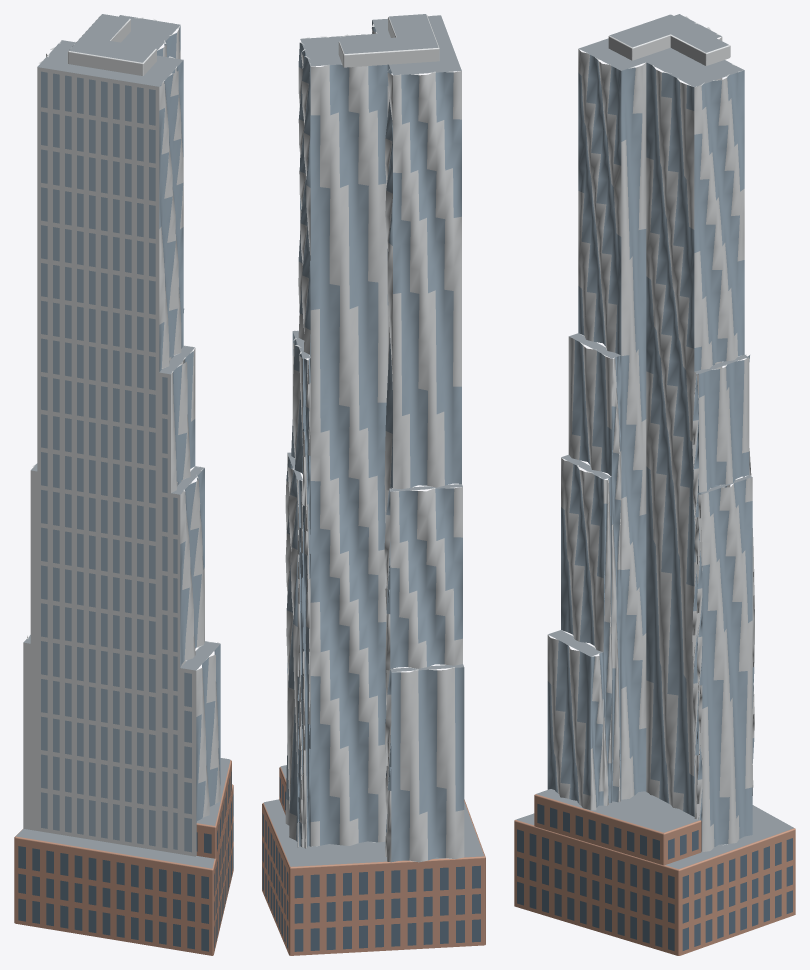
The model's file is detail.glb.
3 views of the same model, side by side, from view 1: azimuth 30°, elevation 25°; view 2: azimuth 150°, elevation 25°; view 3: azimuth 270°, elevation 25° (orthographic). The views are drawn at different scales.
Visible parts, largest first — view 1: 8-spruce-street; view 2: 8-spruce-street; view 3: 8-spruce-street.
Part boxes in pixels (bbox=[...]): 8-spruce-street: bbox=[14, 14, 233, 955]; 8-spruce-street: bbox=[262, 14, 485, 955]; 8-spruce-street: bbox=[514, 14, 795, 955].
Bounding box in the file's own units: 71.17 × 269 × 79.83.
